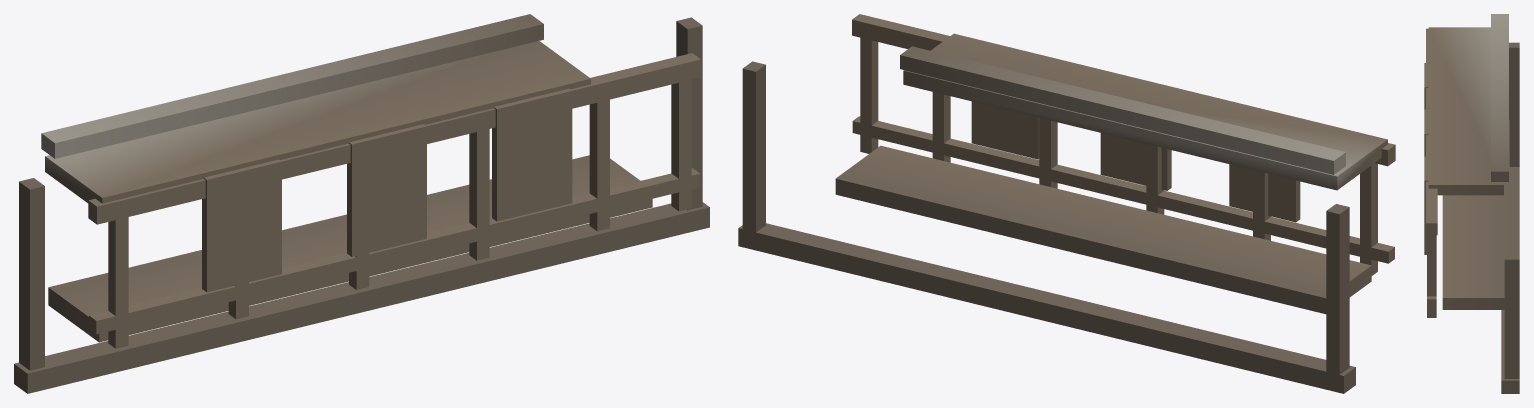
File: roofline_balcony.glb
The picture shows the model from 3 angles, left to right: view 1: azimuth 30°, elevation 25°; view 2: azimuth 150°, elevation 25°; view 3: azimuth 270°, elevation 25°; orthographic projection. The views are drawn at different scales.
Parts seen in each view (by area): view 1: roofline_balcony; view 2: roofline_balcony; view 3: roofline_balcony.
Part boxes in pixels (<box>): roofline_balcony: <box>14,14,709,393</box>; roofline_balcony: <box>738,14,1395,393</box>; roofline_balcony: <box>1424,14,1519,393</box>.
Bounding box in the file's own units: 6.35 × 2.24 × 1.16.
